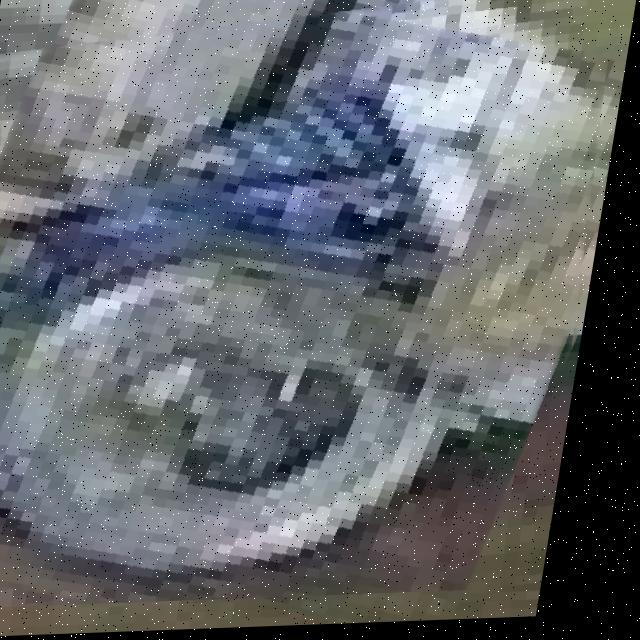litter: (0, 9, 614, 600)
